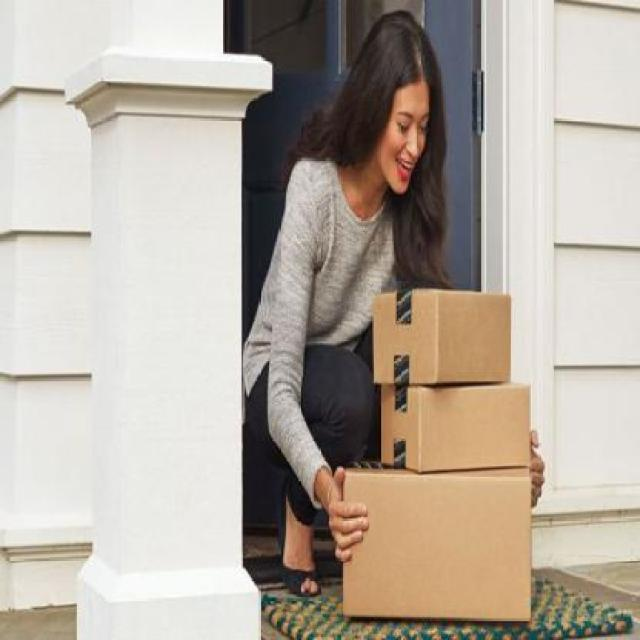cardboxes: (343, 464, 531, 622), (379, 380, 532, 477), (372, 287, 513, 391)
